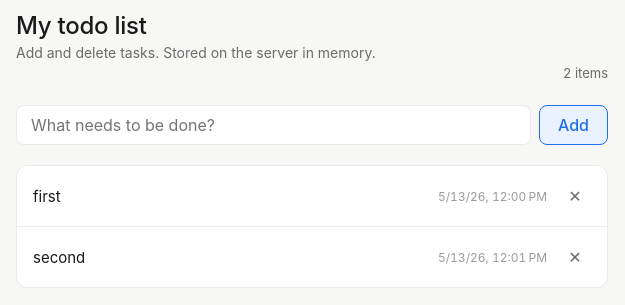
it: TodoListComponent › deletes via the API and removes the row on delete
Click the button "✕" next to "5/13/26, 12:00 PM".
click(575, 196)  # box [559,180,591,212]
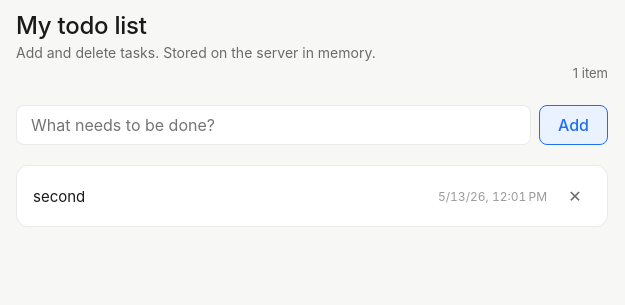
Check: the list item with test id "todo-row" shows "second", box [33,186,85,206]
Check: the number of list items with test id "todo-row" is 1, box [33,180,591,212]
